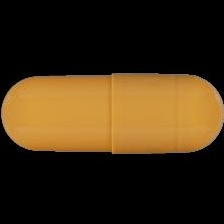68084-790: (0, 0, 224, 224)
